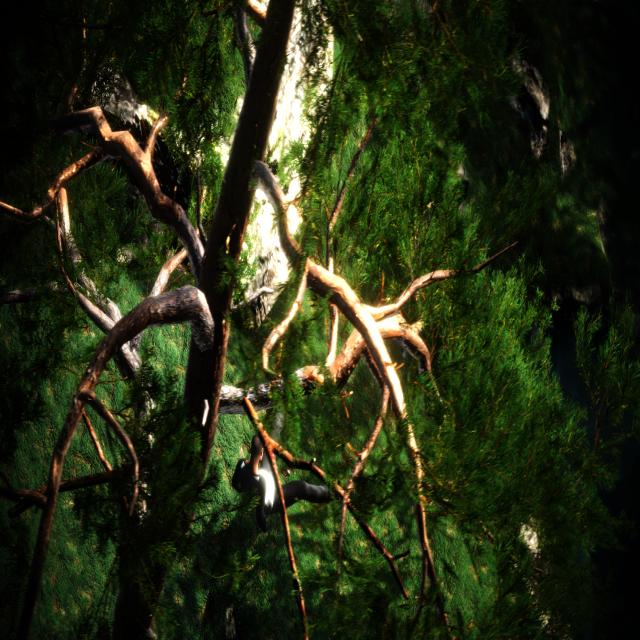Human: (228, 395, 354, 540)
